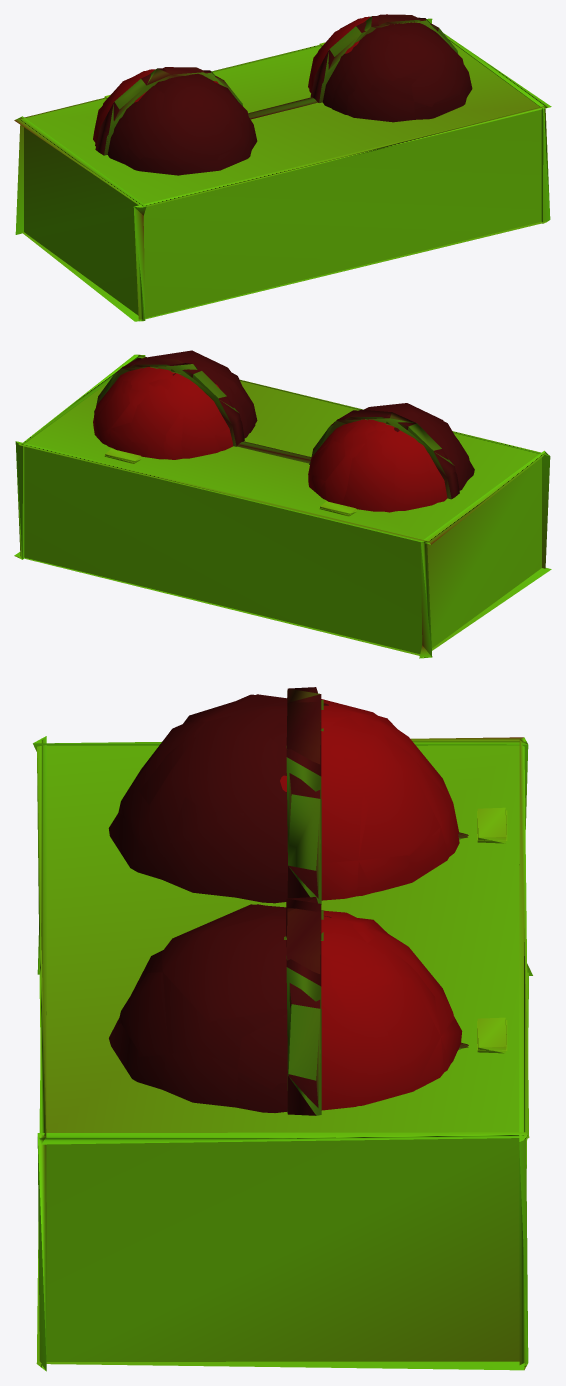
File: RCLModule_gravitas_breaker_cryogenic_fuel_shroud_LODs.fbx
3 renders of one model, top to bottom at view 1: azimuth 30°, elevation 25°; view 2: azimuth 150°, elevation 25°; view 3: azimuth 270°, elevation 25°, orthographic. The views are drawn at different scales.
Parts seen in each view (by area): view 1: LOD2_RCLModule_gravitas_breaker_cryogenic_fuel_shroud_Batch_ (×3), LOD1_RCLModule_gravitas_breaker_cryogenic_fuel_shroud_Batch_ (×3); view 2: LOD2_RCLModule_gravitas_breaker_cryogenic_fuel_shroud_Batch_ (×3), LOD1_RCLModule_gravitas_breaker_cryogenic_fuel_shroud_Batch_ (×3); view 3: LOD2_RCLModule_gravitas_breaker_cryogenic_fuel_shroud_Batch_ (×3), LOD1_RCLModule_gravitas_breaker_cryogenic_fuel_shroud_Batch_ (×3).
Boxes of the visible parts, x1,y1,x2,y2 form: LOD2_RCLModule_gravitas_breaker_cryogenic_fuel_shroud_Batch_ (×3): [24, 16, 541, 318]; LOD1_RCLModule_gravitas_breaker_cryogenic_fuel_shroud_Batch_ (×3): [14, 14, 551, 321]; LOD2_RCLModule_gravitas_breaker_cryogenic_fuel_shroud_Batch_ (×3): [24, 350, 541, 653]; LOD1_RCLModule_gravitas_breaker_cryogenic_fuel_shroud_Batch_ (×3): [14, 350, 551, 658]; LOD2_RCLModule_gravitas_breaker_cryogenic_fuel_shroud_Batch_ (×3): [46, 688, 519, 1361]; LOD1_RCLModule_gravitas_breaker_cryogenic_fuel_shroud_Batch_ (×3): [33, 687, 532, 1371].
Bounding box in the file's own units: 69.15 × 28.71 × 35.93.
